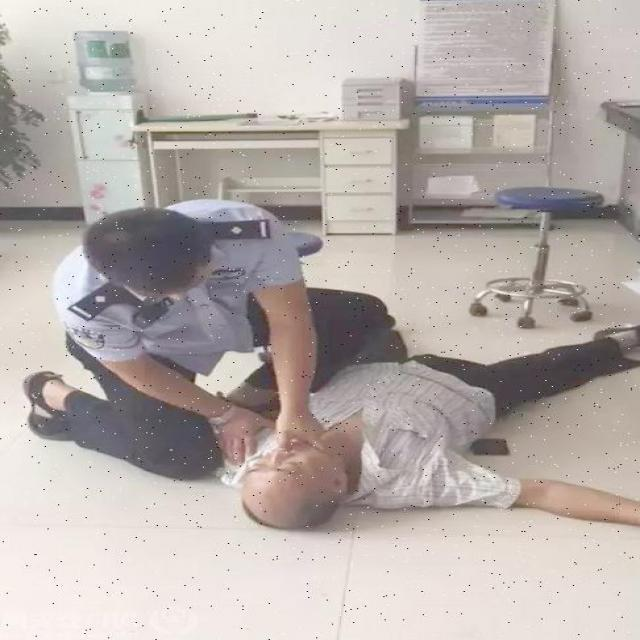fall: (238, 314, 638, 536)
